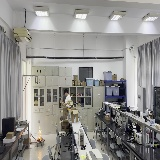fire: (36, 126, 42, 141)
